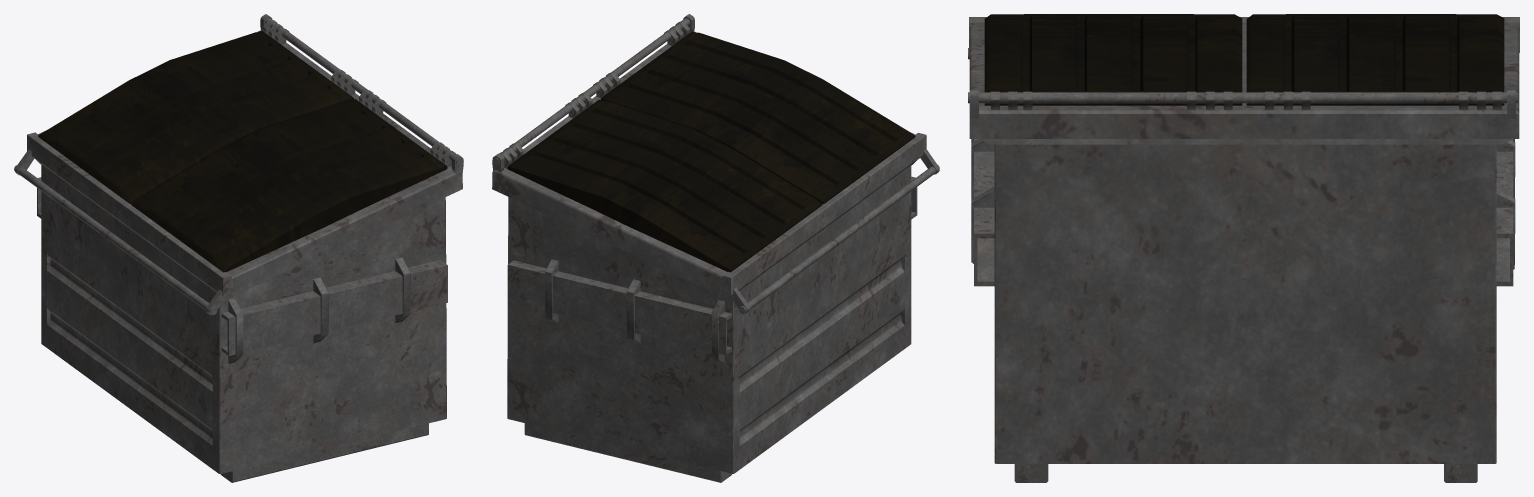
The model's file is SM_Dumspter.fbx.
The picture shows the model from 3 angles, left to right: view 1: azimuth 30°, elevation 25°; view 2: azimuth 150°, elevation 25°; view 3: azimuth 270°, elevation 25°; orthographic projection. The views are drawn at different scales.
Parts seen in each view (by area): view 1: Dumspter; view 2: Dumspter; view 3: Dumspter.
Part boxes in pixels (x1,y1,x2,y2): Dumspter: (14, 14, 463, 482); Dumspter: (492, 14, 939, 482); Dumspter: (968, 14, 1519, 482).
Size of the model in its own units: 146 by 157 by 195.
